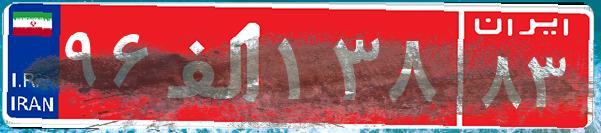1: (273, 28, 330, 110)
3: (330, 28, 385, 110), (525, 38, 570, 115)
6: (110, 28, 158, 105)
8: (385, 28, 445, 110), (475, 38, 525, 113)
9: (57, 26, 110, 107)
الف: (158, 15, 273, 115)
